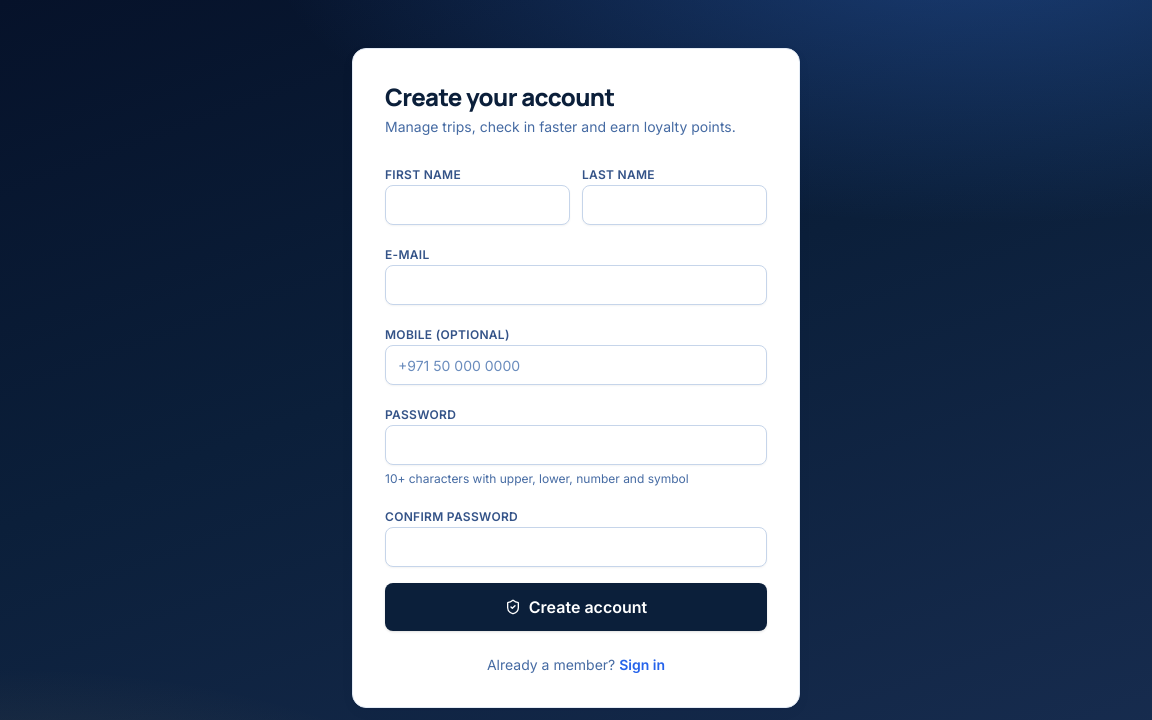
Test: RegisterPage › enforces the password policy and confirmation
Type "Sarah" into the field labelled "First name" at (478, 205), box [385,185,570,225]
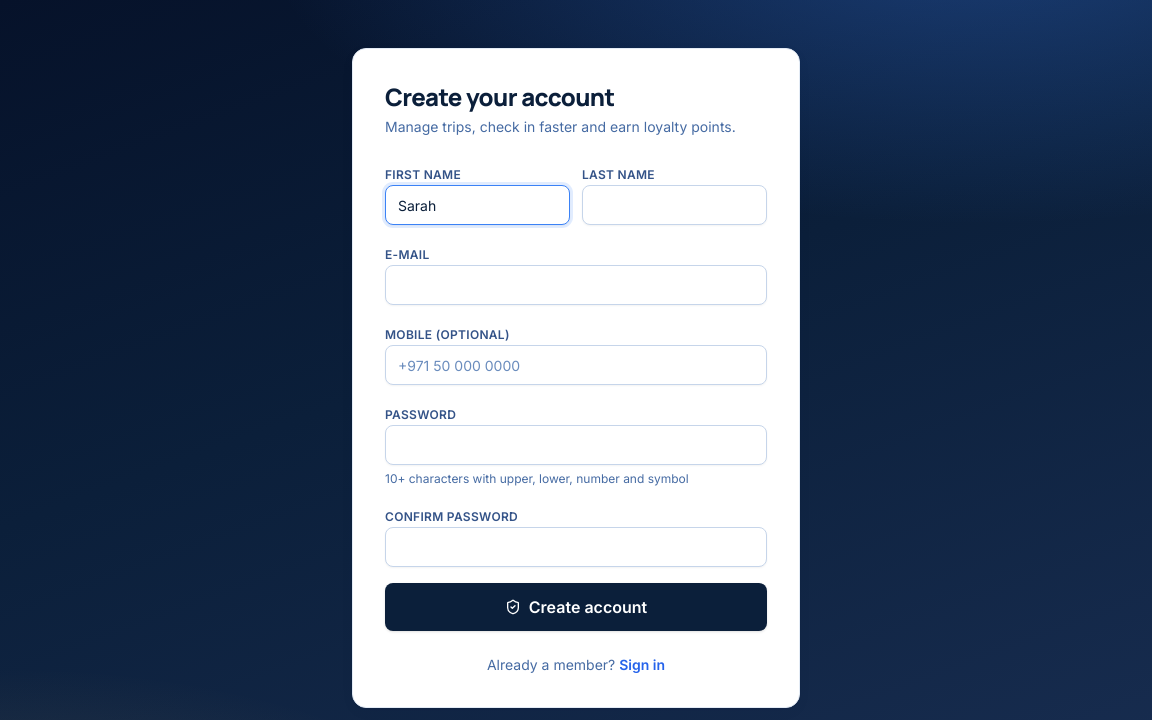
Type "Ahmed" into the field labelled "Last name" at (674, 205), box [582,185,767,225]
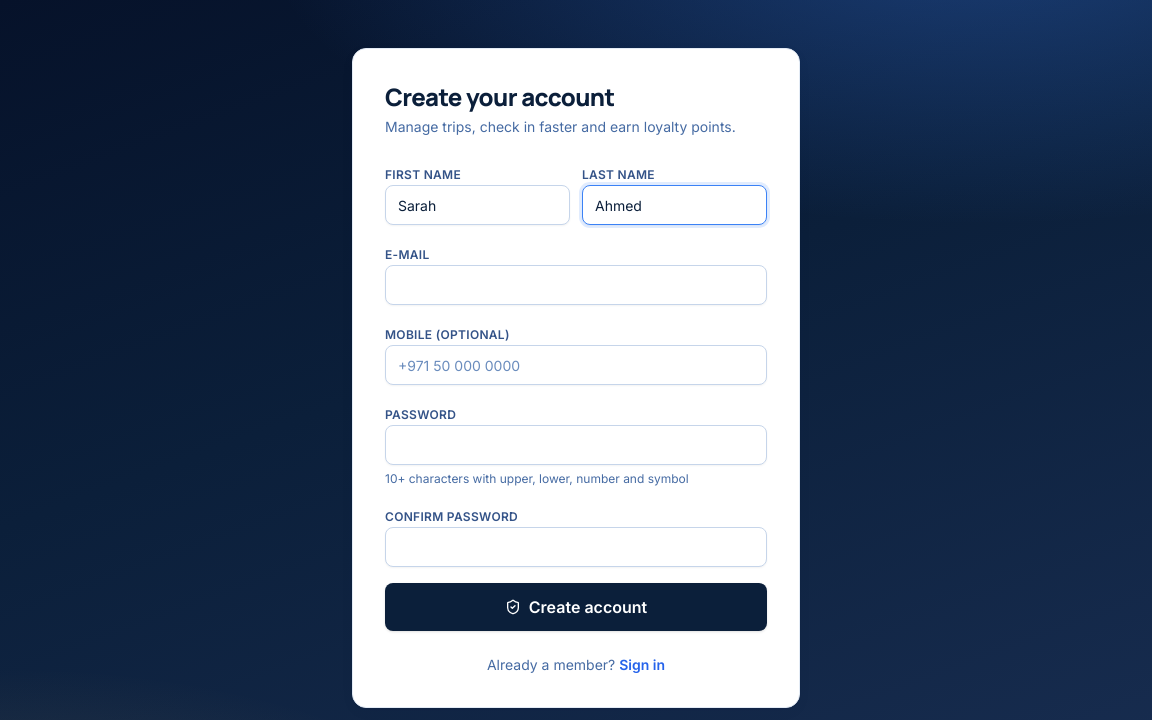
Type "sarah@example.com" into the field labelled "E-mail" at (576, 285), box [385,265,767,305]
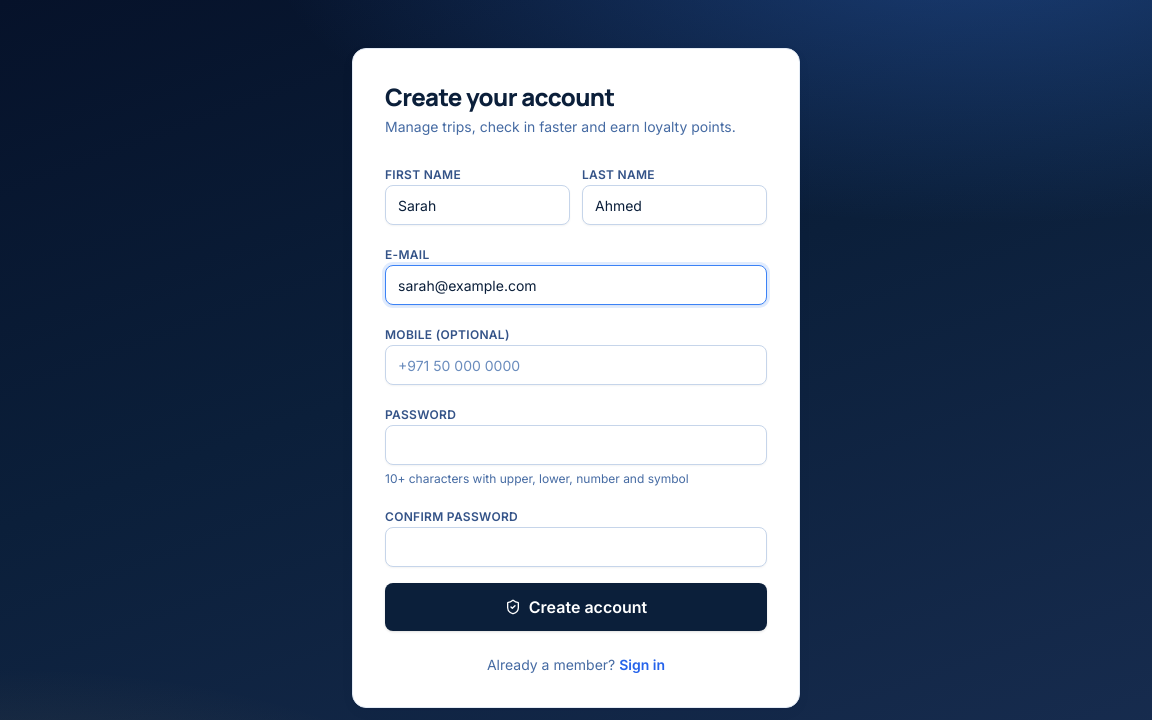
Type "weak" into the password field labelled "Password" at (576, 445), box [385,425,767,465]
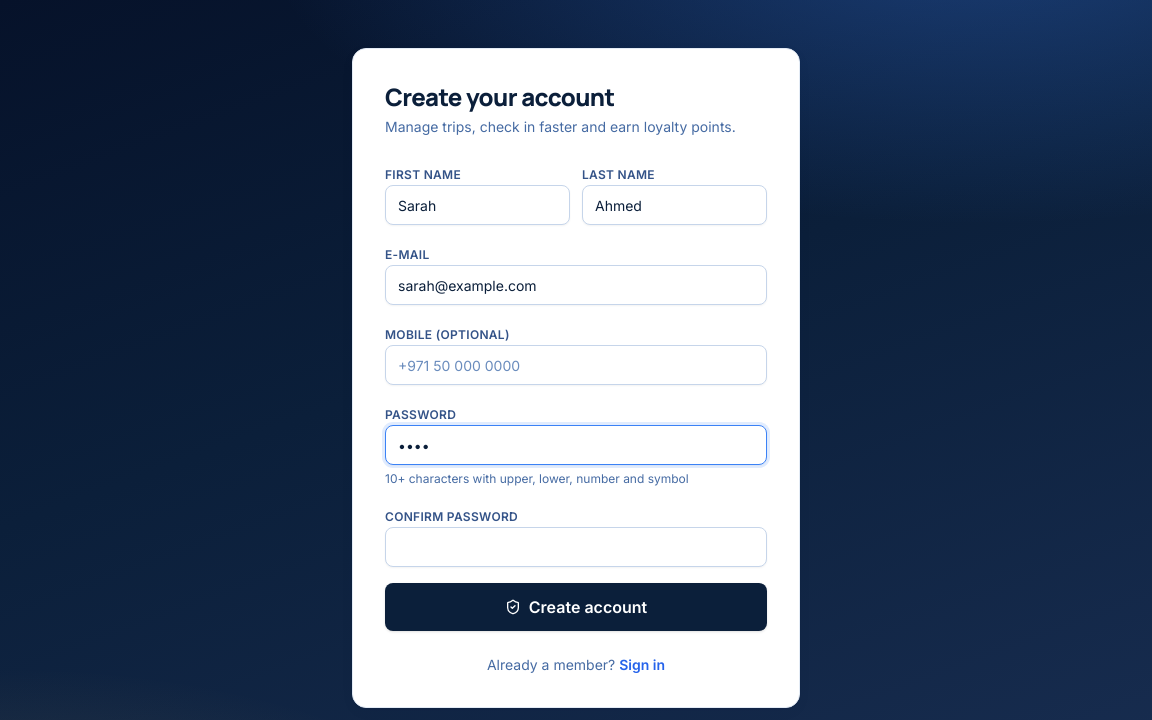
Type "different" into the password field labelled "Confirm password" at (576, 547), box [385,527,767,567]
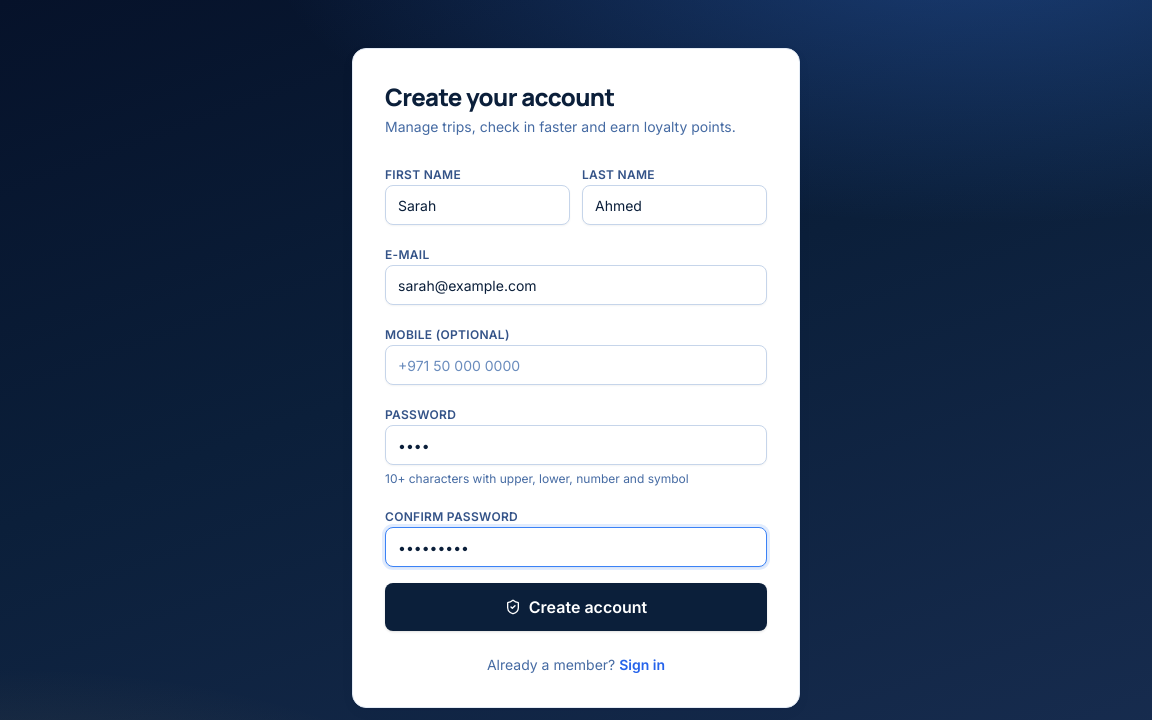
Click the button "Create account" at (576, 607), box [385,583,767,631]
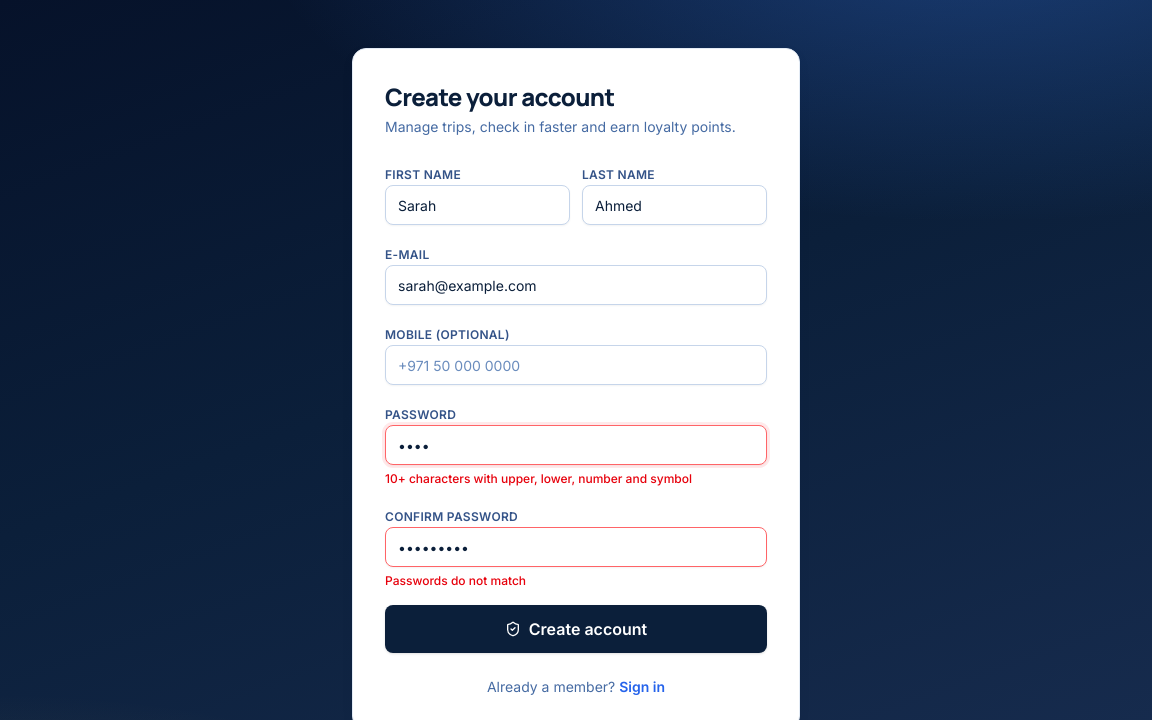
Expected: the text "10+ characters with upper, lower, number and symbol" is shown, [385,471,692,486]
Expected: the text "Passwords do not match" is shown, [385,573,526,588]
